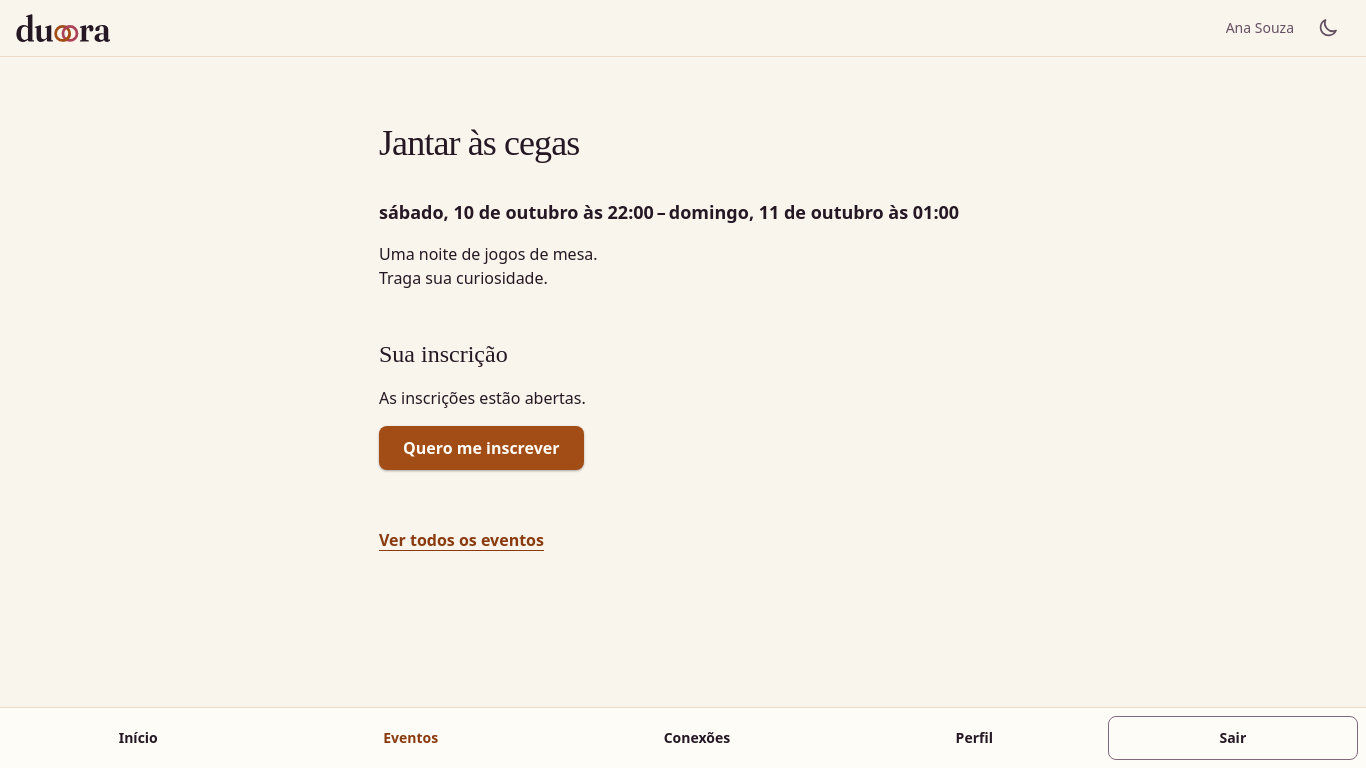
Test: event page › registration before the event › says it is registering and blocks a second click meanwhile
The image size is (1366, 768).
Click the button "Quero me inscrever".
click(481, 448)  # box [379,426,584,470]
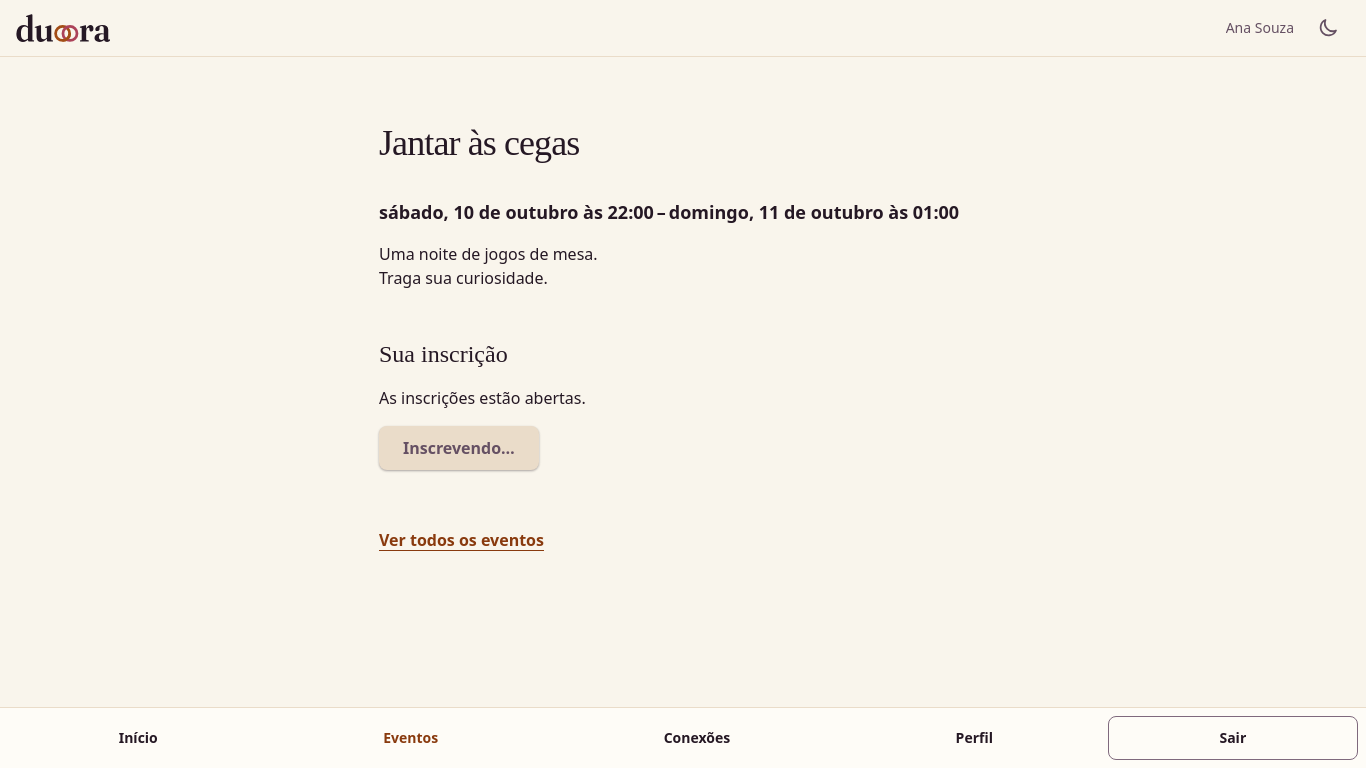
Result: the button "Inscrevendo…" is disabled at [379,426,539,470]
